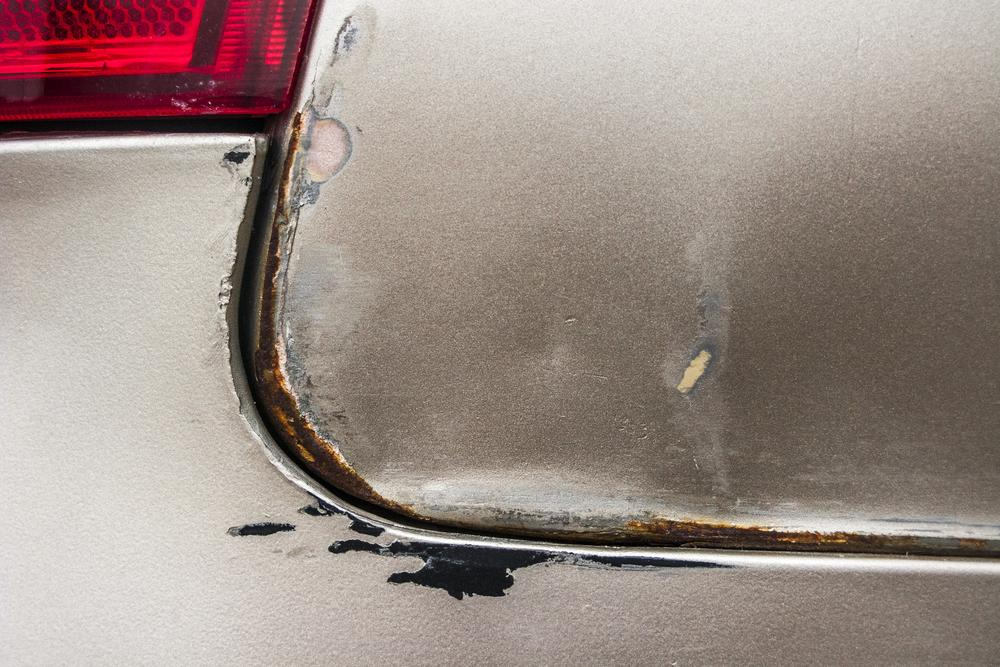dent: (321, 271, 733, 521)
scratch: (213, 497, 746, 606), (276, 0, 385, 227)
